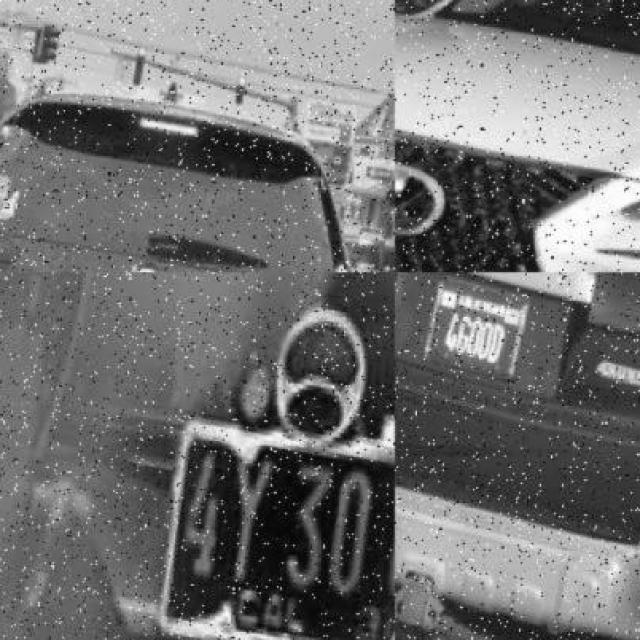licenseplate: (168, 416, 396, 627), (425, 272, 532, 382)
